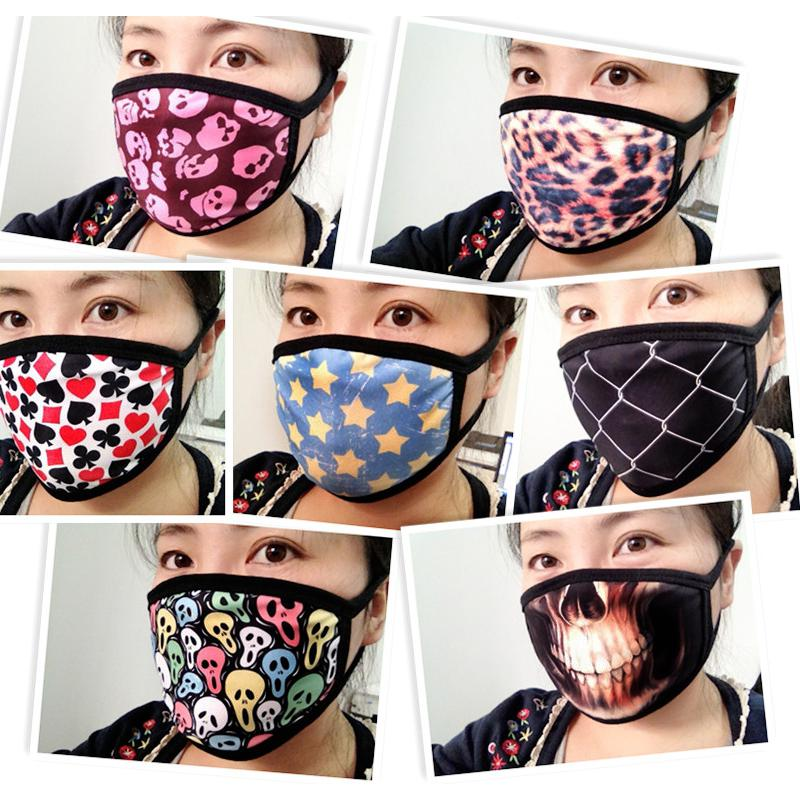OK: (147, 529, 368, 750), (279, 282, 477, 500), (1, 282, 205, 491), (560, 282, 766, 488), (112, 21, 314, 223), (493, 42, 687, 236), (525, 519, 712, 706)
